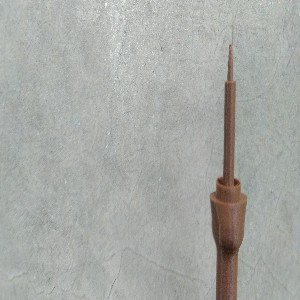solder: (210, 43, 249, 300)
